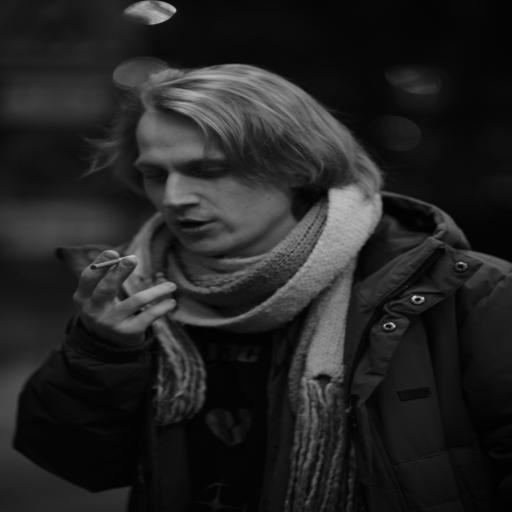pegang rokok: (51, 209, 183, 322)
